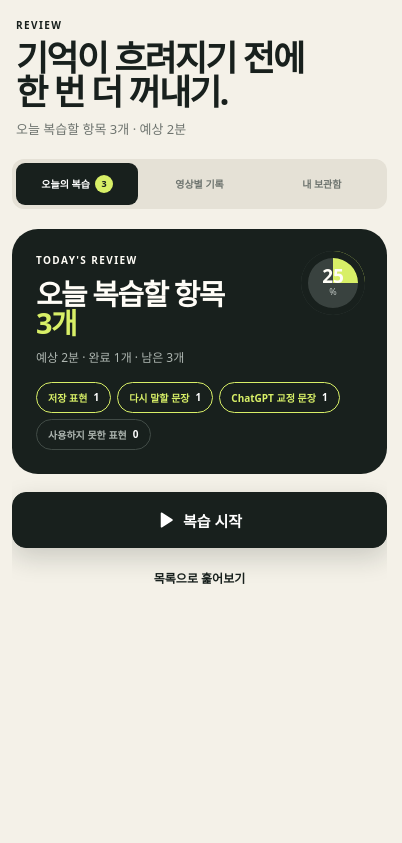
Test: Per-content study records › groups a video's records into expressions, sentences, recordings and corrections
Expected: the button "복습 시작" is shown, [12,492,387,548]
Click the tab "영상별 기록". click: (199, 184)
box: [138,163,261,205]
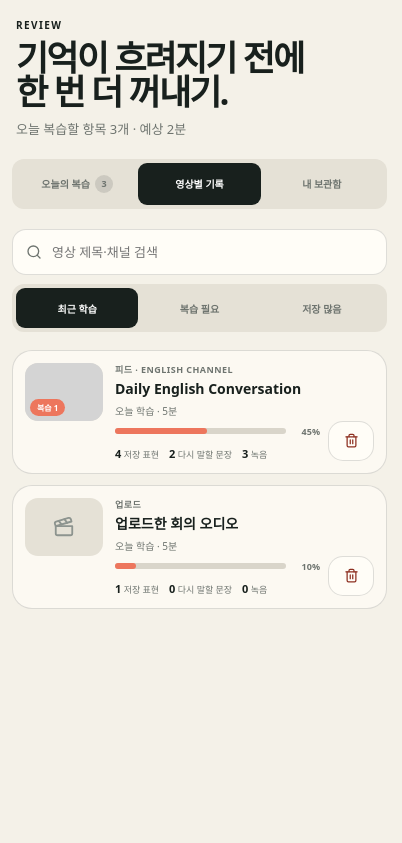
Click the button with aria-label "Daily English Conversation 학습 기록 열기". click: (172, 412)
box: [25,363,320,461]
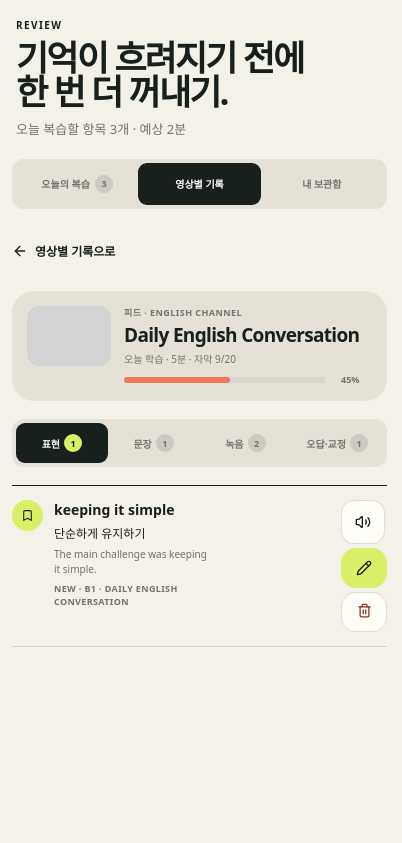
Expected: the tab "표현 1" is shown, [16,423,108,463]
Expected: the text "keeping it simple" is shown, [54,500,174,519]
Click the tab "문장 1". click: (154, 443)
box: [108,423,200,463]
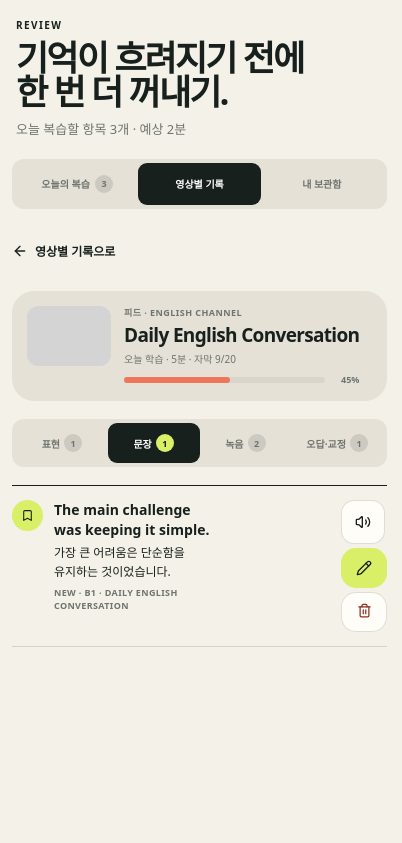
Expected: the text "The main challenge was keeping it simple." is shown, [54,500,215,539]
Click the tab "녹음 2". click: (245, 443)
box: [200,423,291,463]
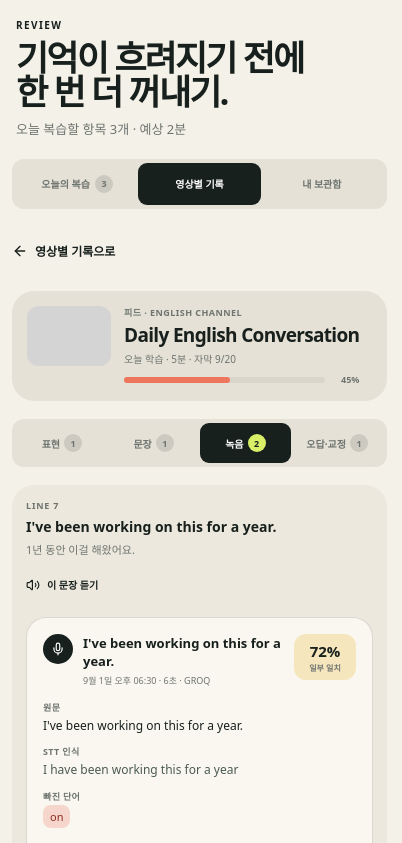
Expected: the number of elements with class "recording-line-group" is 2
Expected: the text "LINE 7" is shown, [26,499,59,512]
Expected: the text "I've been working on this for a year." below "LINE 7" is shown, [26,517,276,536]
Click the tab "오답·교정 1". click: (337, 443)
box: [291,423,383,463]
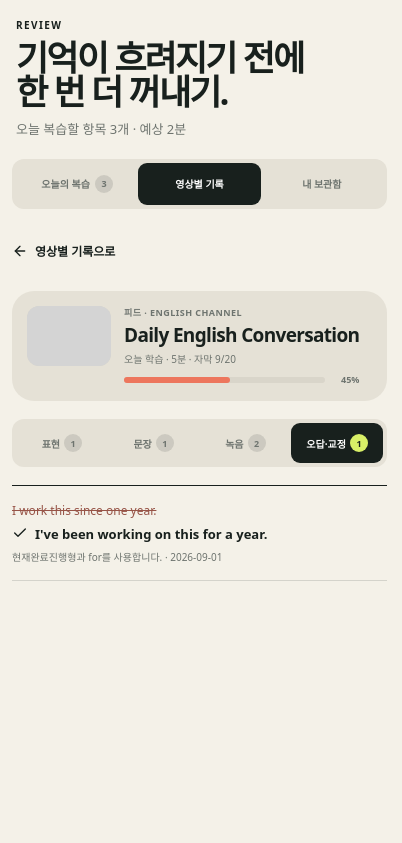
Expected: the text "I work this since one year." is shown, [12,502,156,519]
Expected: the text "현재완료진행형과 for를 사용합니다. · 2026-09-01" is shown, [12,550,222,564]
